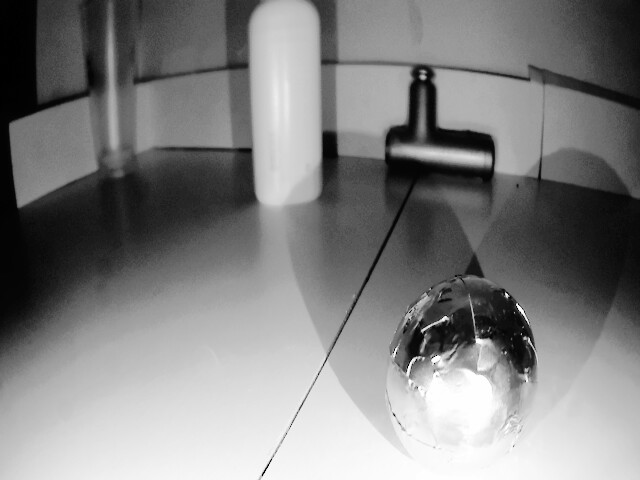black: (389, 268, 545, 477)
